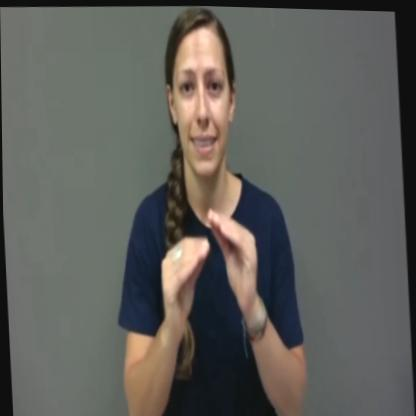Fix: (104, 2, 306, 416)
